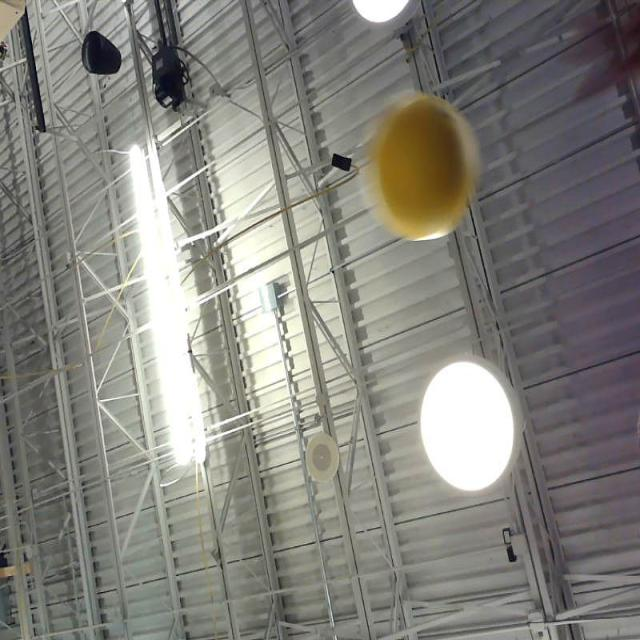Fuel: (377, 96, 467, 240)
